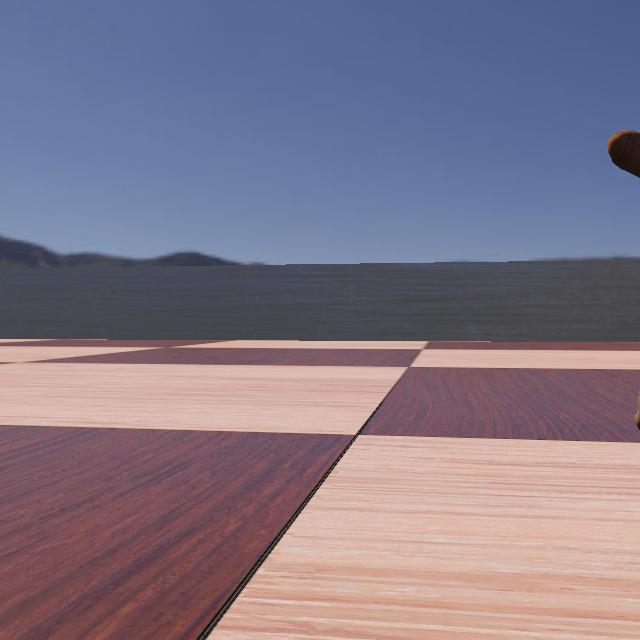cat: (452, 19, 640, 494)
